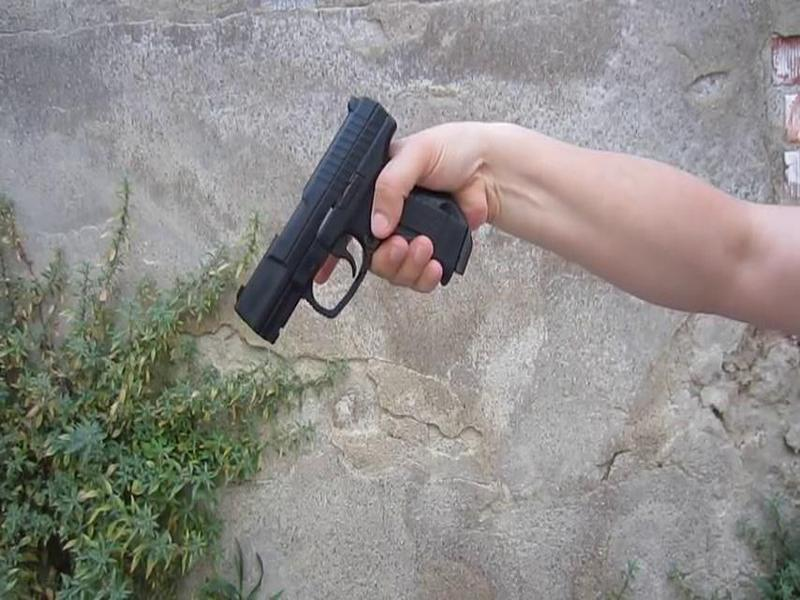Pistola: (231, 93, 476, 353)
